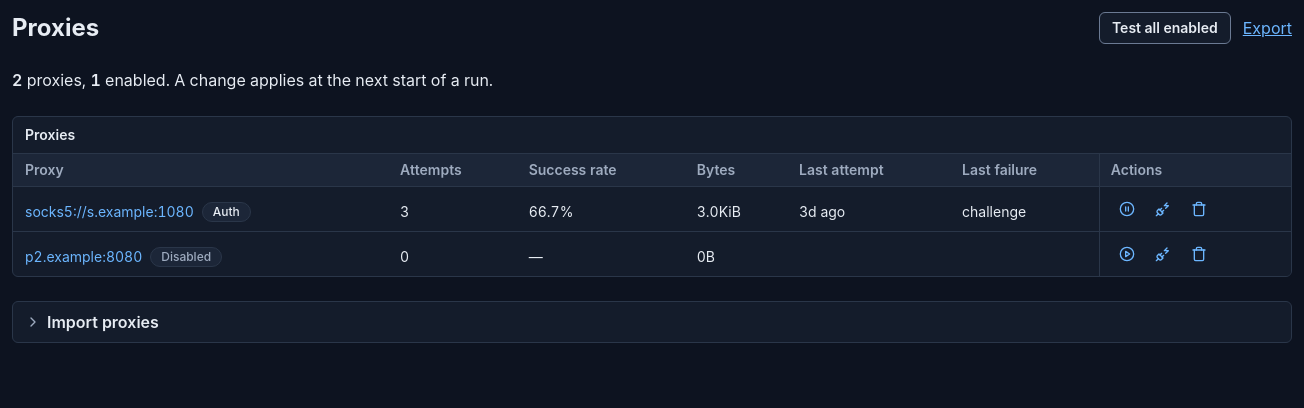
page › shows the error of a refused change and reads nothing
Click the button named "Enable p2.example:8080".
click(1127, 254)  # box [1111,238,1143,270]
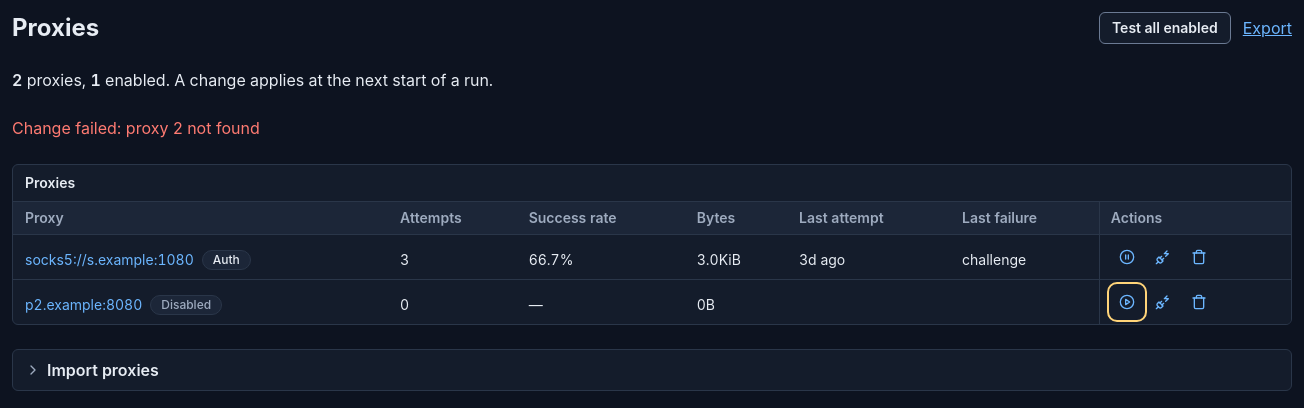
Expected: the message reads "Change failed: proxy 2 not found", [12,118,260,138]
